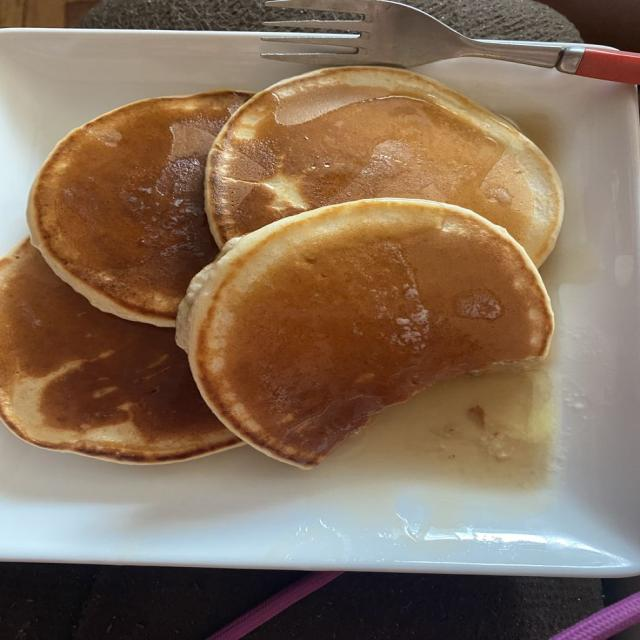pancake: (177, 199, 553, 467), (206, 67, 563, 265), (0, 241, 239, 463), (28, 91, 250, 326)
